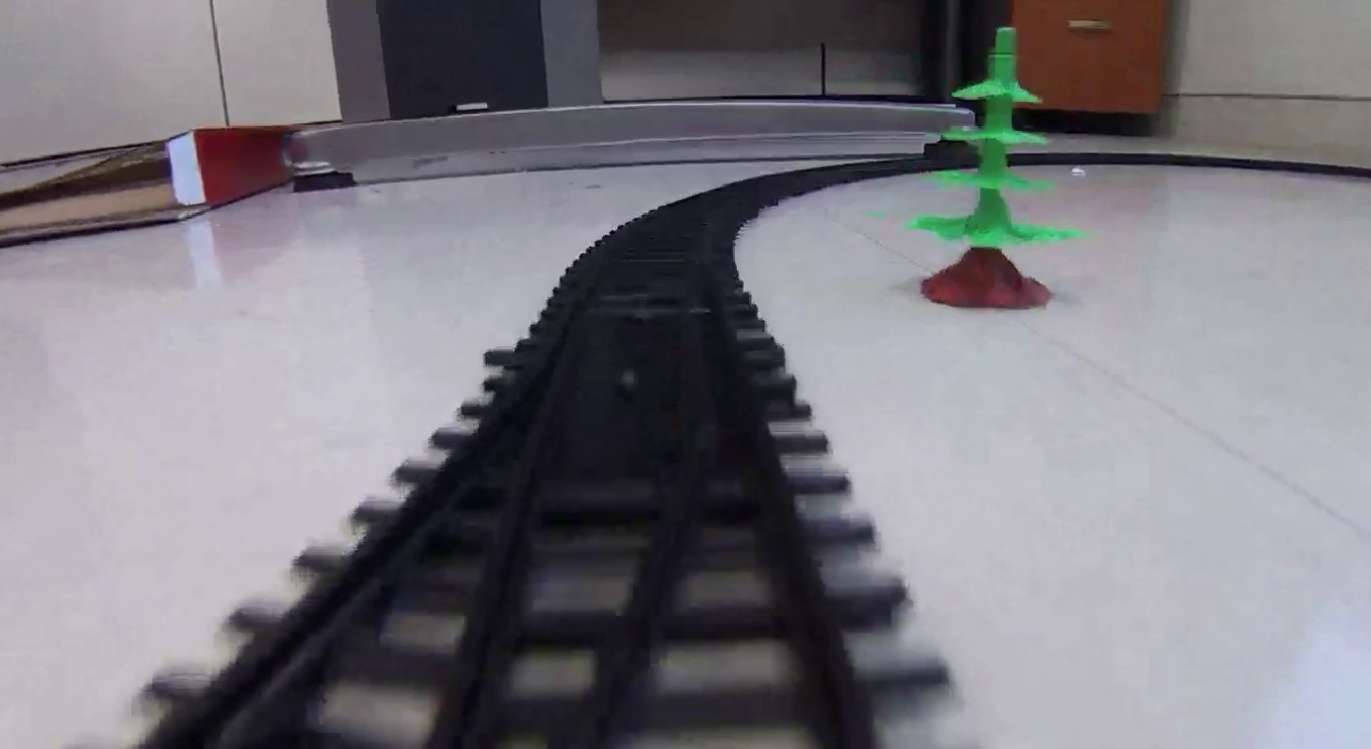tree: (903, 28, 1087, 310)
